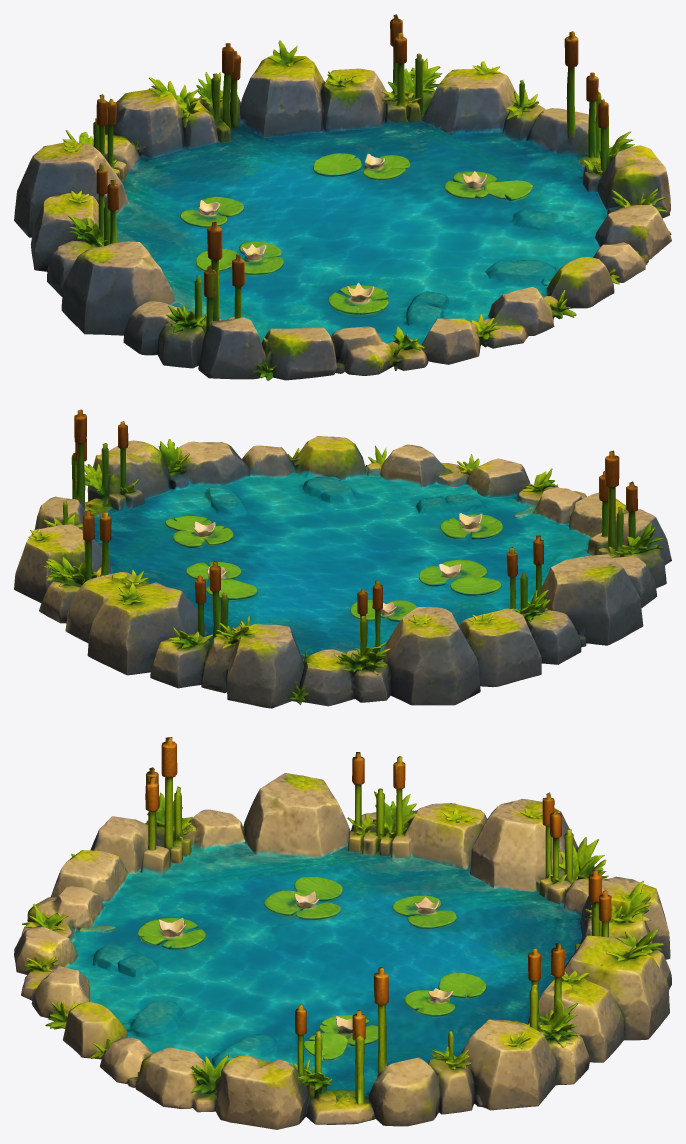
Rendered from water lily pond 3d model.glb.
3 views of the same model, one above another, from view 1: azimuth 30°, elevation 25°; view 2: azimuth 150°, elevation 25°; view 3: azimuth 270°, elevation 25° (orthographic). The views are drawn at different scales.
Visible parts, largest first — view 1: tripo_node_a1e6a2ef-e91a-4141-9a03-deb4231ae82f; view 2: tripo_node_a1e6a2ef-e91a-4141-9a03-deb4231ae82f; view 3: tripo_node_a1e6a2ef-e91a-4141-9a03-deb4231ae82f.
Part boxes in pixels (box(x1,y1,x2,y2)): tripo_node_a1e6a2ef-e91a-4141-9a03-deb4231ae82f: box(14, 14, 671, 380); tripo_node_a1e6a2ef-e91a-4141-9a03-deb4231ae82f: box(14, 409, 671, 708); tripo_node_a1e6a2ef-e91a-4141-9a03-deb4231ae82f: box(14, 737, 671, 1129).
Bounding box in the file's own units: 1 × 0.228 × 0.9291.
Materials: 1 (1 with a texture image).
